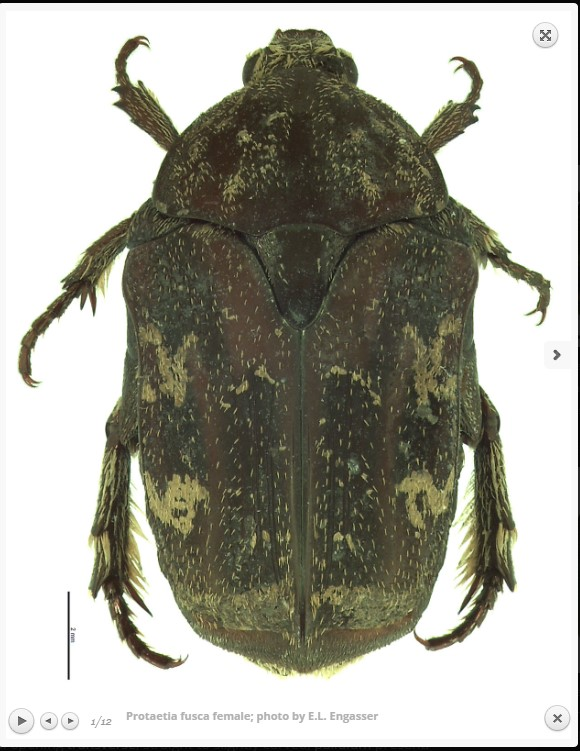Protaetia_fusca: (19, 22, 537, 664)
